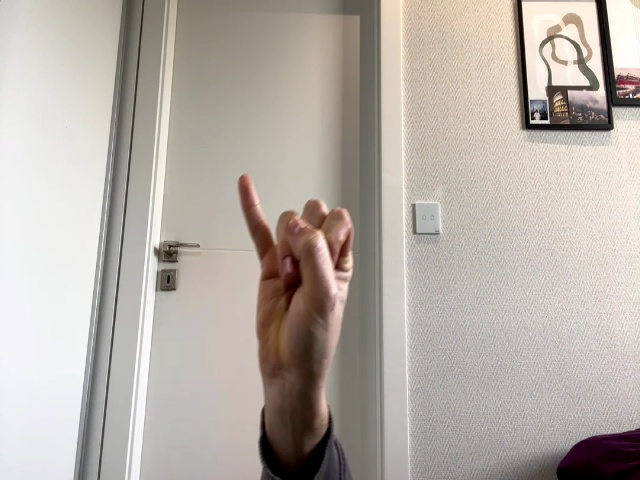I: (238, 174, 354, 410)
